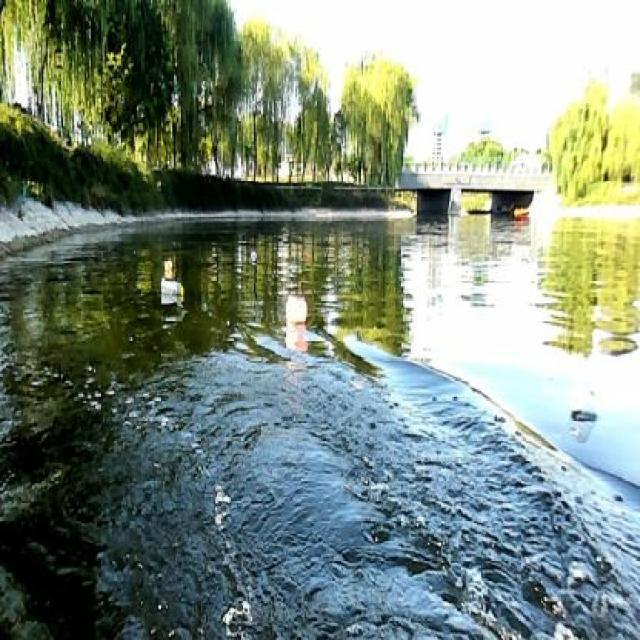Waste: (566, 385, 604, 451), (281, 290, 312, 333), (156, 272, 188, 307)
